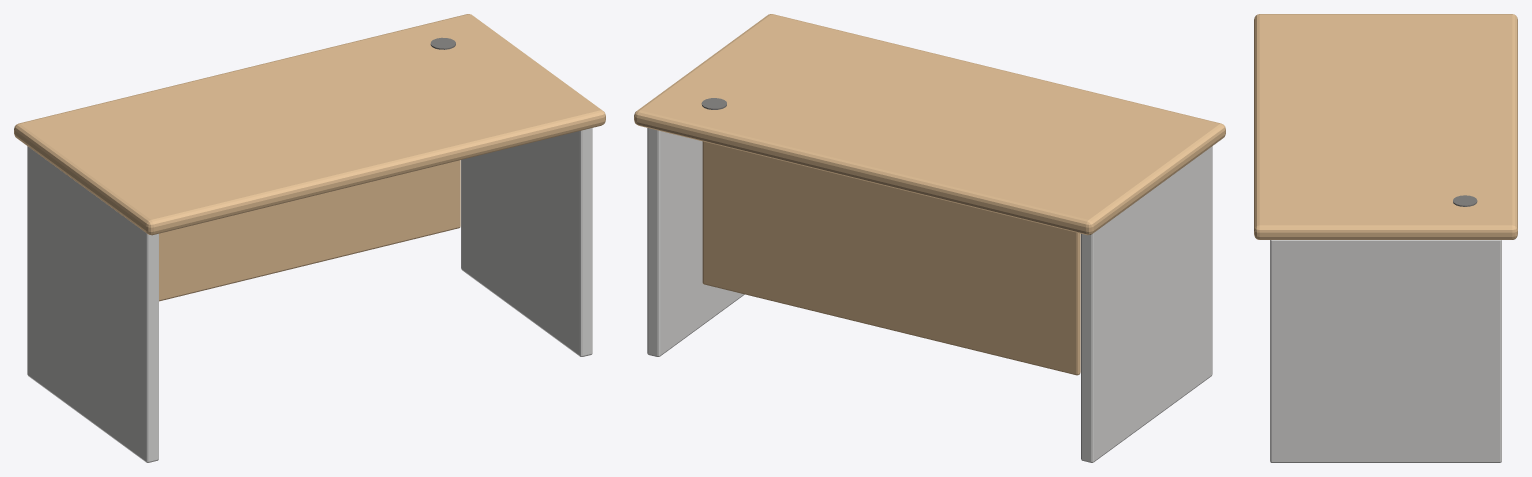
Rendered from isometric_workstation_variations_guide_18.glb.
3 views of the same model, side by side, from view 1: azimuth 30°, elevation 25°; view 2: azimuth 150°, elevation 25°; view 3: azimuth 270°, elevation 25° (orthographic). The views are drawn at different scales.
Visible parts, largest first — view 1: Cube; view 2: Cube; view 3: Cube.
Boxes of the visible parts, x1,y1,x2,y2 form: Cube: (14,14,605,462); Cube: (634,14,1225,462); Cube: (1254,14,1517,462).
Bounding box in the file's own units: 1.45 × 0.754 × 0.75.
